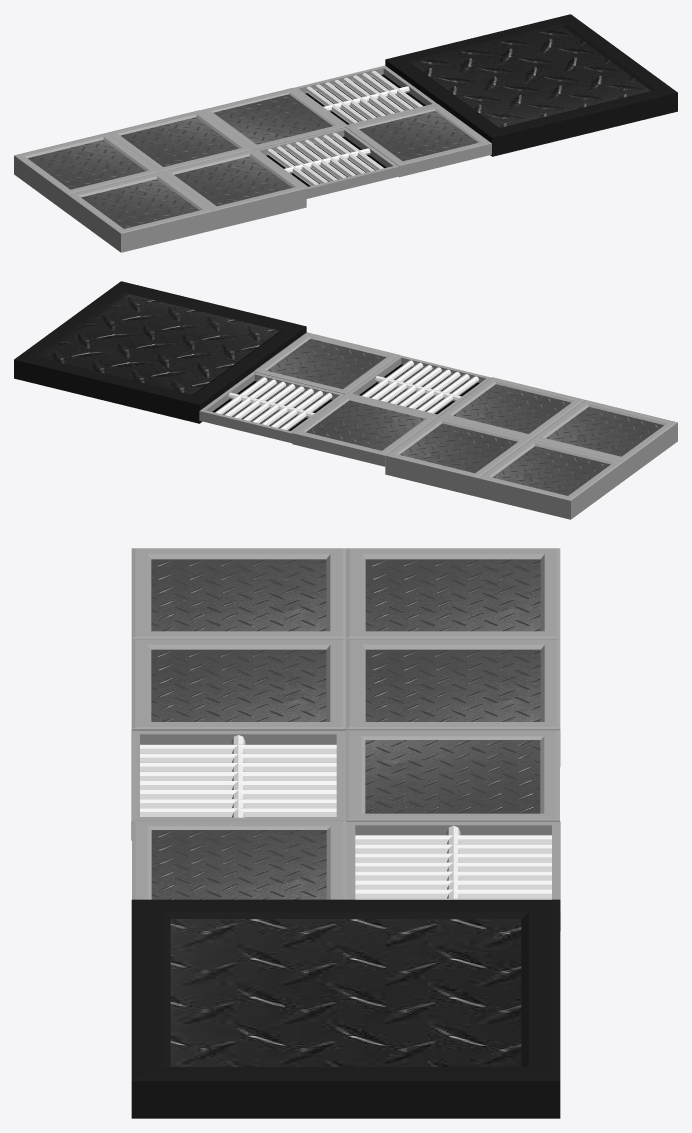
File: floor_tiles.glb
3 views of the same model, one above another, from view 1: azimuth 30°, elevation 25°; view 2: azimuth 150°, elevation 25°; view 3: azimuth 270°, elevation 25° (orthographic). The views are drawn at different scales.
Visible parts, largest first — view 1: BlackPlate, DiamondPlate, RustyGrate; view 2: BlackPlate, DiamondPlate, RustyGrate; view 3: DiamondPlate, BlackPlate, RustyGrate.
Boxes of the visible parts, left/top/right/bottom form: BlackPlate: left=14, top=110, right=306, bottom=252; DiamondPlate: left=385, top=14, right=677, bottom=156; RustyGrate: left=200, top=65, right=491, bottom=198; BlackPlate: left=385, top=377, right=677, bottom=519; DiamondPlate: left=14, top=281, right=306, bottom=423; RustyGrate: left=199, top=332, right=491, bottom=466; DiamondPlate: left=131, top=899, right=560, bottom=1118; BlackPlate: left=131, top=548, right=560, bottom=766; RustyGrate: left=131, top=730, right=560, bottom=930.
Size of the model in its own units: 6 by 0.2541 by 2.
6 materials, 2 textured.
